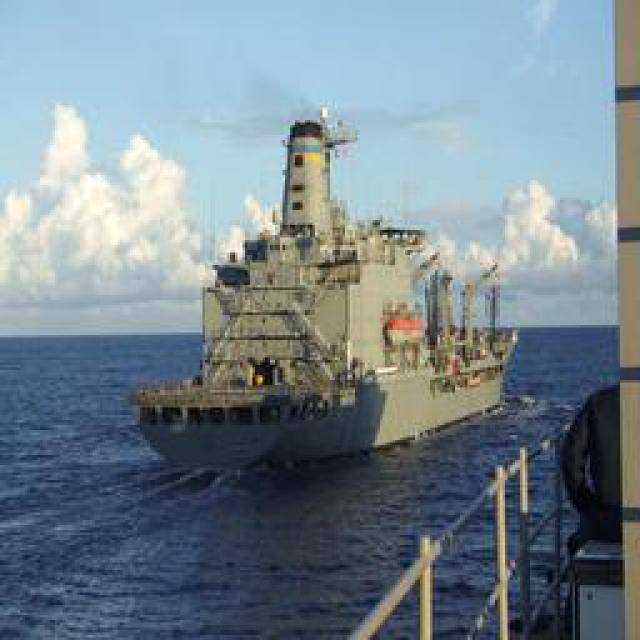Ship: (138, 105, 473, 478)
